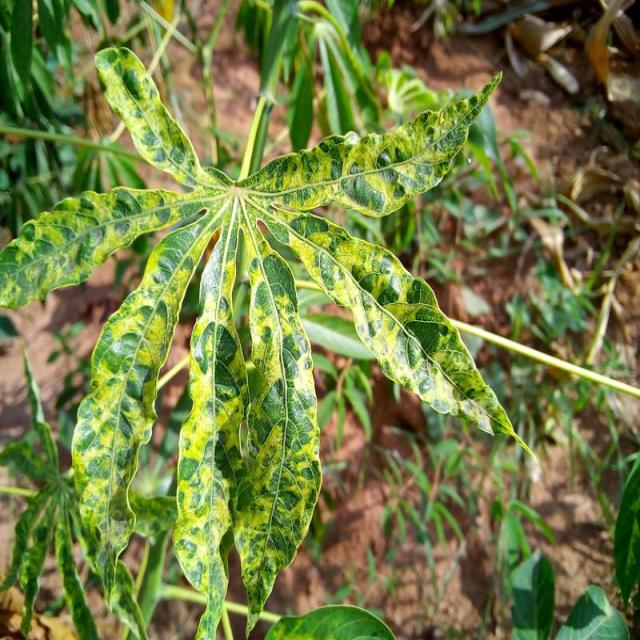cassava leaf: (1, 41, 535, 638)
